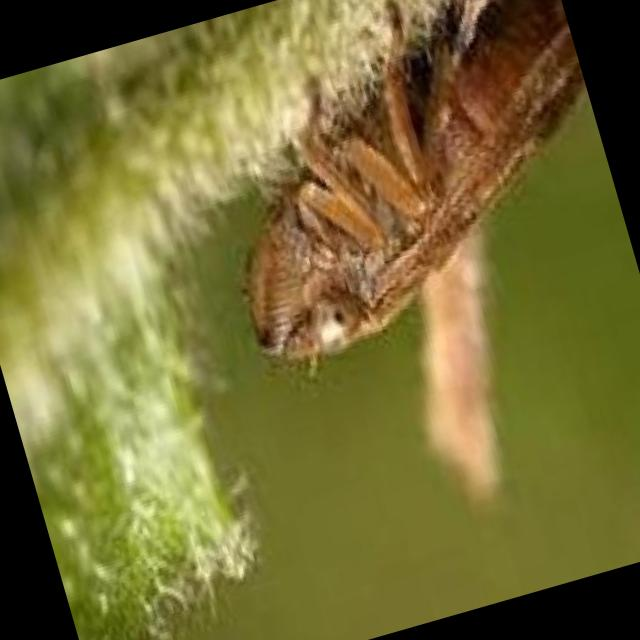brown-planthopper: (173, 0, 637, 375)
